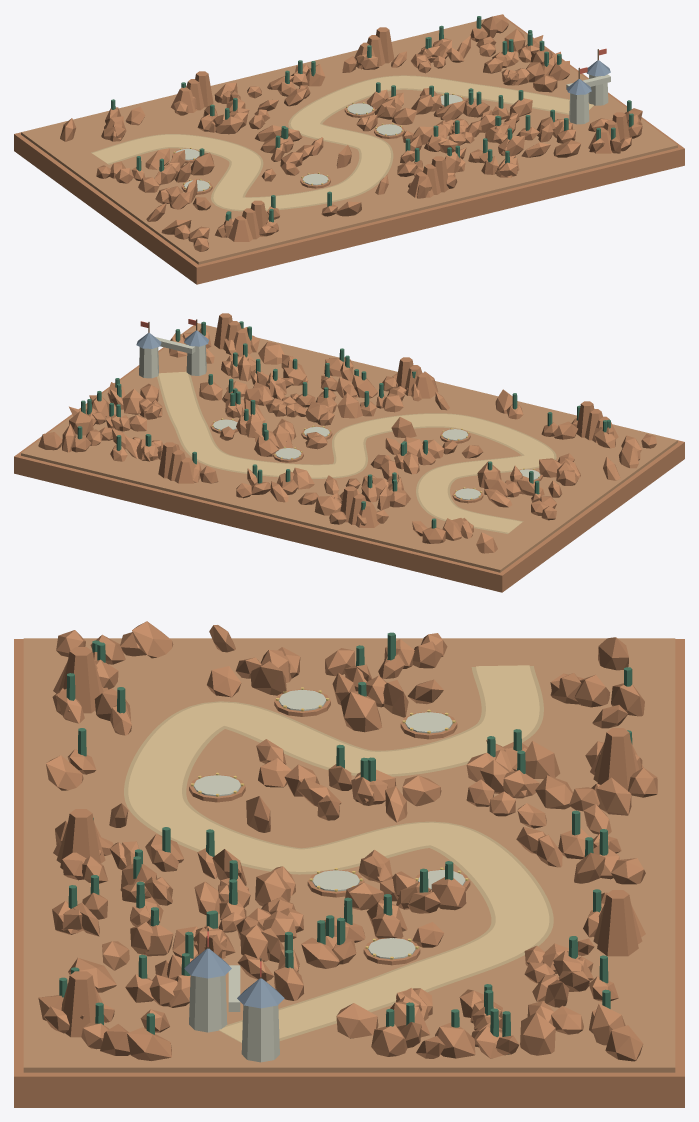
File: 02_AmberCanyon.fbx
The picture shows the model from 3 angles, top to bottom: view 1: azimuth 30°, elevation 25°; view 2: azimuth 150°, elevation 25°; view 3: azimuth 270°, elevation 25°; orthographic projection. The views are drawn at different scales.
Visible parts, largest first — view 1: Ground, Scenery, Road, RoadBorder; view 2: Ground, Scenery, Road, RoadBorder; view 3: Ground, Scenery, Road, RoadBorder, Pad_01, Pad_02, Pad_03, Pad_06, Pad_04.
Boxes of the visible parts, left/top/right/bottom form: Ground: left=14, top=17, right=684, bottom=284; Scenery: left=60, top=14, right=642, bottom=251; Road: left=92, top=76, right=593, bottom=209; RoadBorder: left=91, top=75, right=593, bottom=211; Ground: left=14, top=323, right=684, bottom=592; Scenery: left=38, top=313, right=656, bottom=553; Road: left=158, top=371, right=554, bottom=532; RoadBorder: left=157, top=374, right=556, bottom=533; Ground: left=14, top=638, right=684, bottom=1107; Scenery: left=38, top=621, right=657, bottom=1062; Road: left=128, top=665, right=549, bottom=1042; RoadBorder: left=124, top=666, right=553, bottom=1042; Pad_01: left=400, top=709, right=457, bottom=739; Pad_02: left=274, top=687, right=330, bottom=716; Pad_03: left=189, top=772, right=245, bottom=802; Pad_06: left=363, top=938, right=420, bottom=965; Pad_04: left=307, top=867, right=364, bottom=897.
Size of the model in its own units: 54 by 7.6 by 35.
